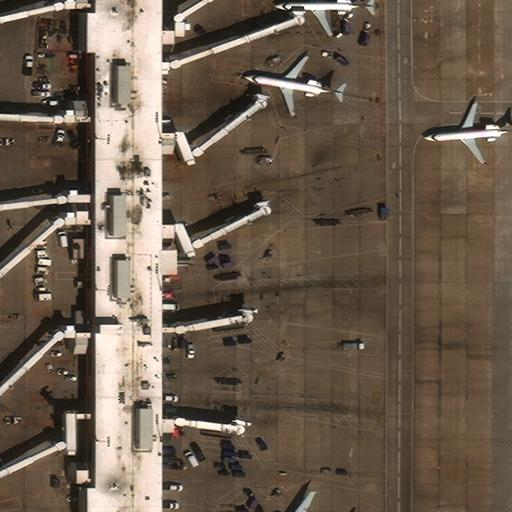Medium Civil Transport: (245, 55, 343, 116), (423, 102, 512, 164), (274, 0, 375, 36)
